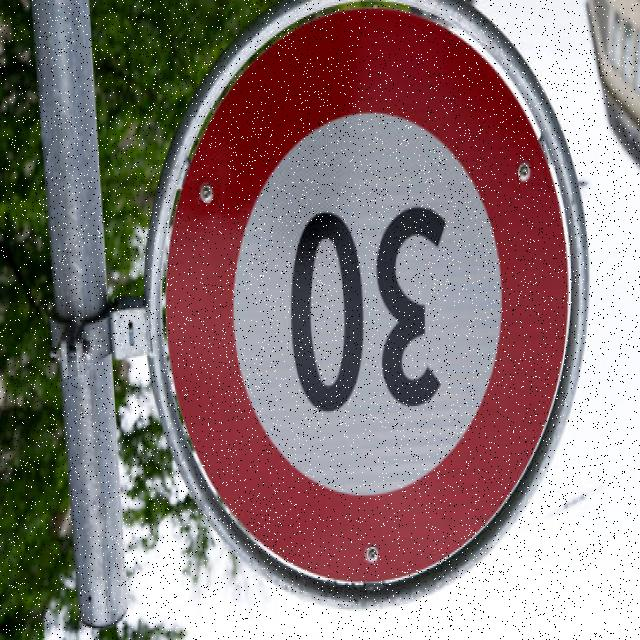speed_limit_30: (164, 1, 582, 601)
